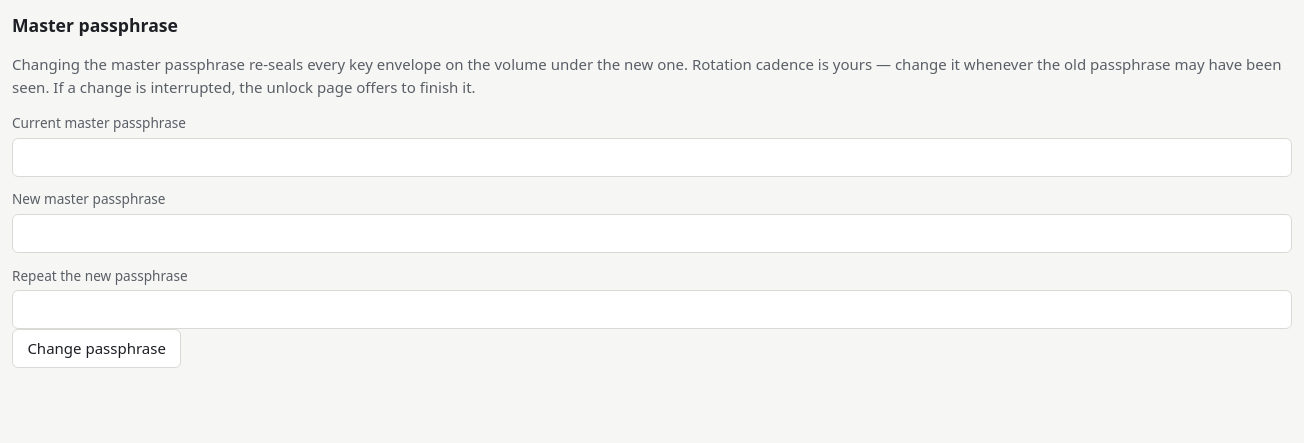
MasterPassphrase › posts the pair verbatim and names the new generation
This screenshot has width=1304, height=443.
Type "the-current-master-passphrase" into the password field labelled "Current master passphrase".
click(652, 157); type("the-current-master-passphrase")  # box [12,138,1292,177]
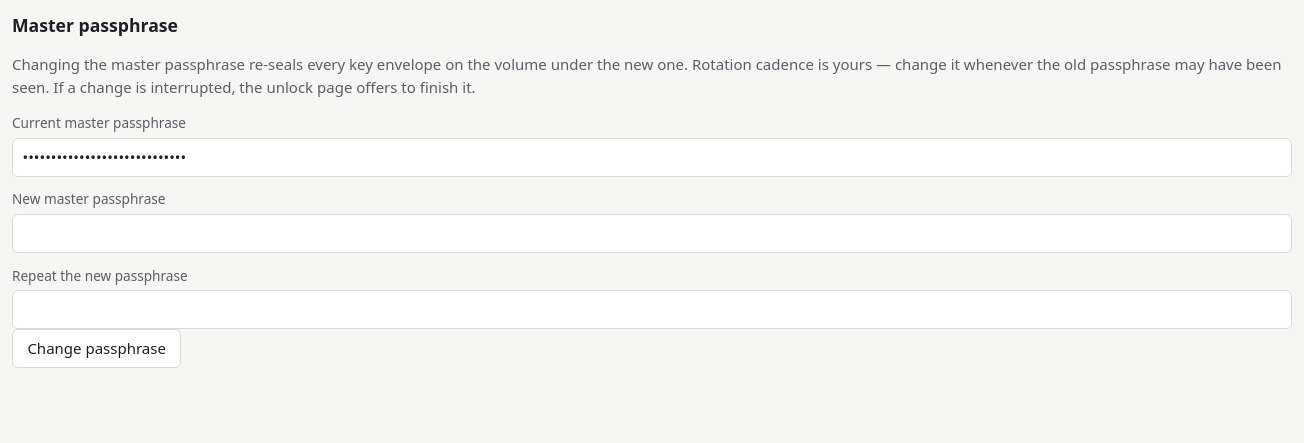
Type "the-next-master-passphrase" into the password field labelled "New master passphrase".
click(652, 233); type("the-next-master-passphrase")  # box [12,214,1292,253]
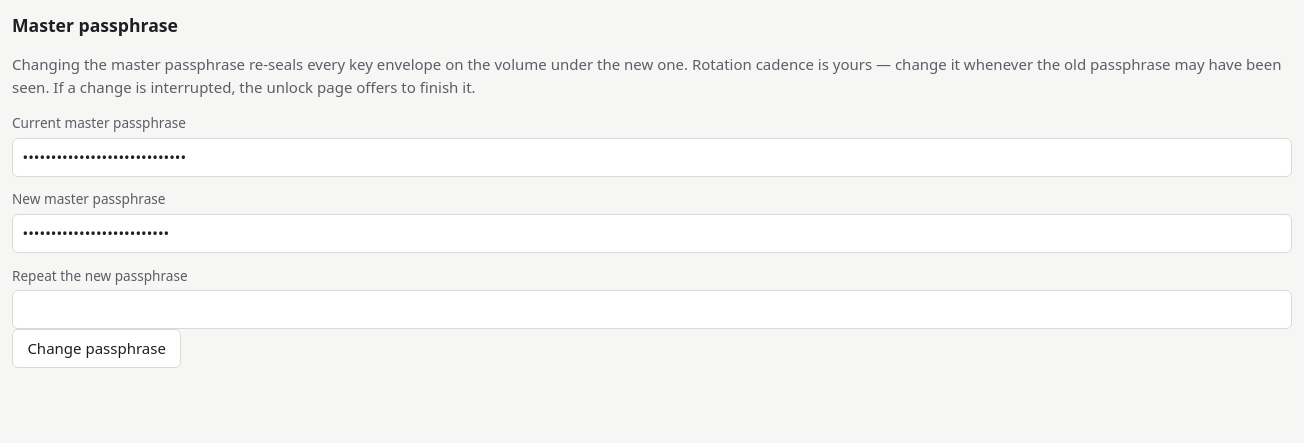
Type "the-next-master-passphrase" into the password field labelled "Repeat the new passphrase".
click(652, 309); type("the-next-master-passphrase")  # box [12,290,1292,329]
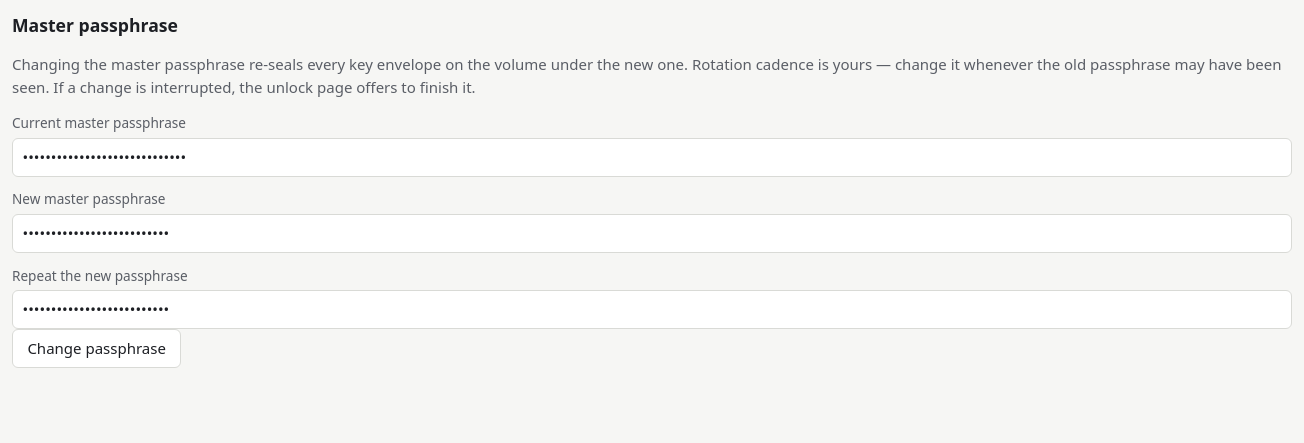
Click the button "Change passphrase".
click(97, 348)  # box [12,329,181,368]
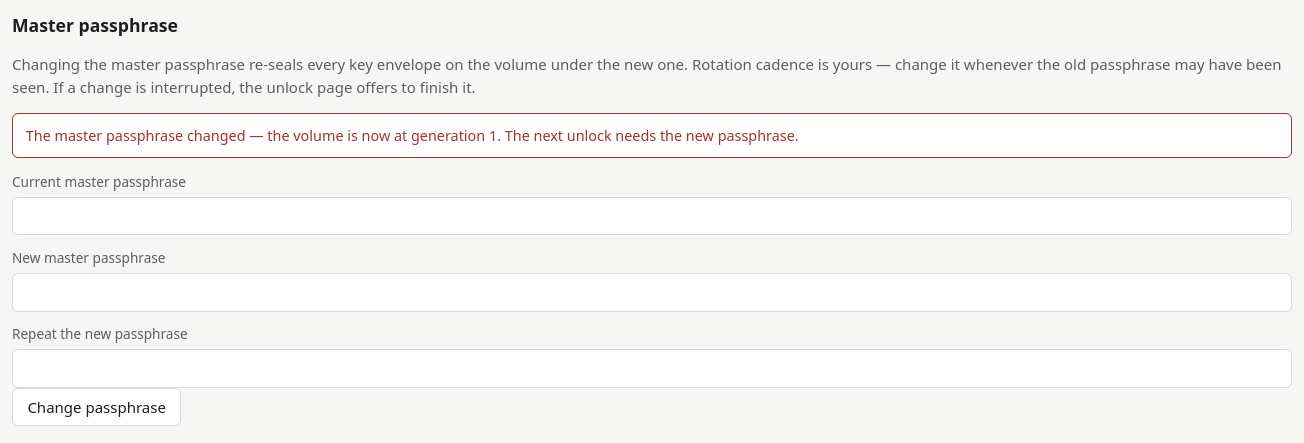
Expected: the text "the volume is now at generation 1" is shown, [26,126,799,145]
